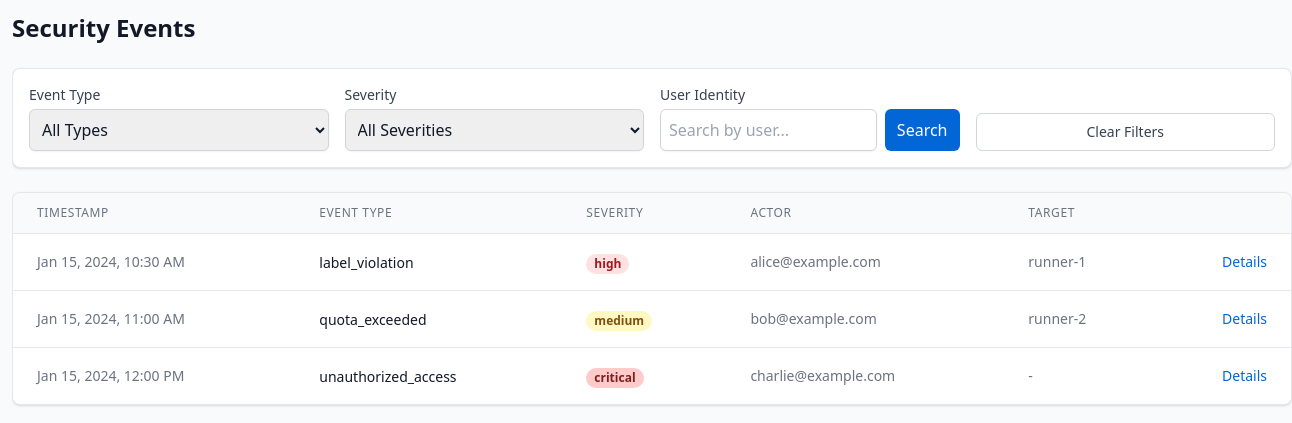
it: SecurityEvents › clears all filters when Clear Filters is clicked
This screenshot has width=1292, height=423.
Set some filters
Select "Label Violation" in the 1st dropdown at (179, 130), box [29,109,328,151]
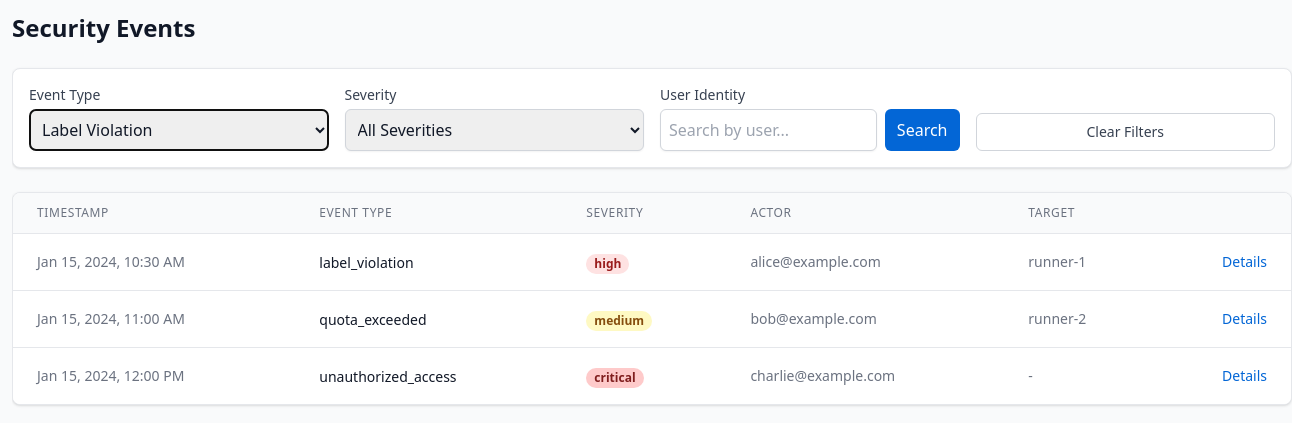
Type "alice@example.com" into the field with placeholder "Search by user...".
click(768, 130); type("alice@example.com")  # box [660,109,877,151]
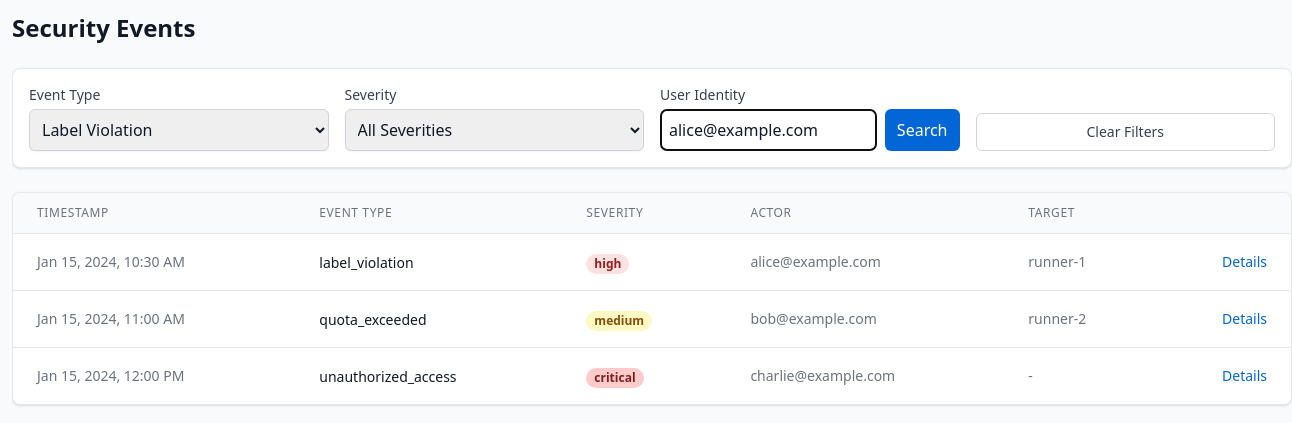
Clear filters
Click the button "Clear Filters".
click(1125, 132)  # box [976,113,1275,151]
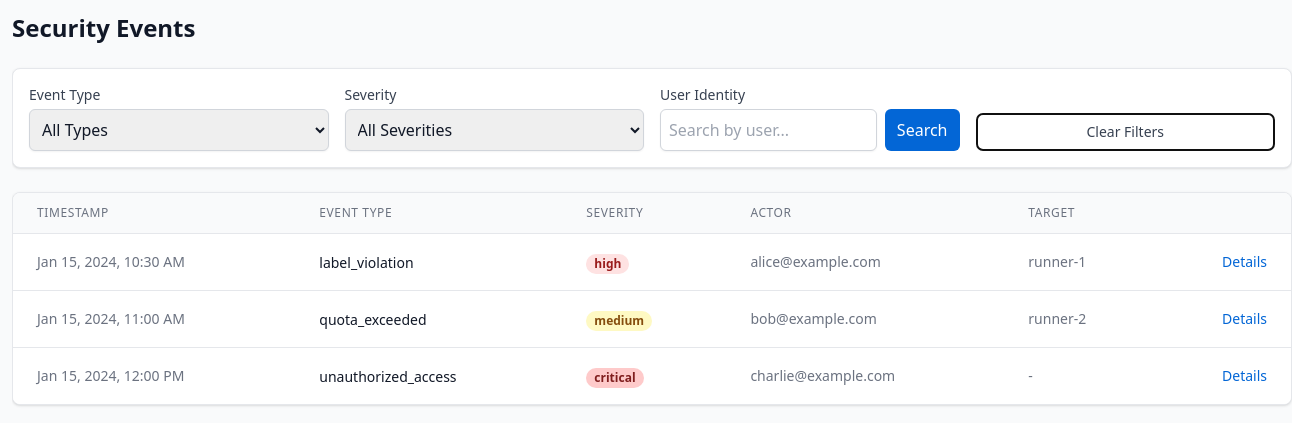
Now the field with placeholder "Search by user..." is empty, box [660,109,877,151]
